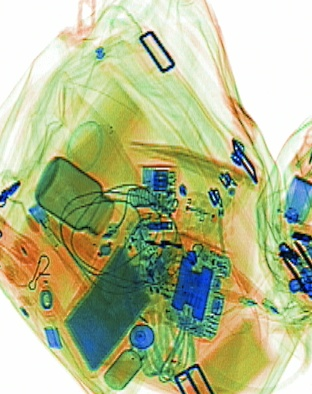lighter: (25, 199, 86, 272)
